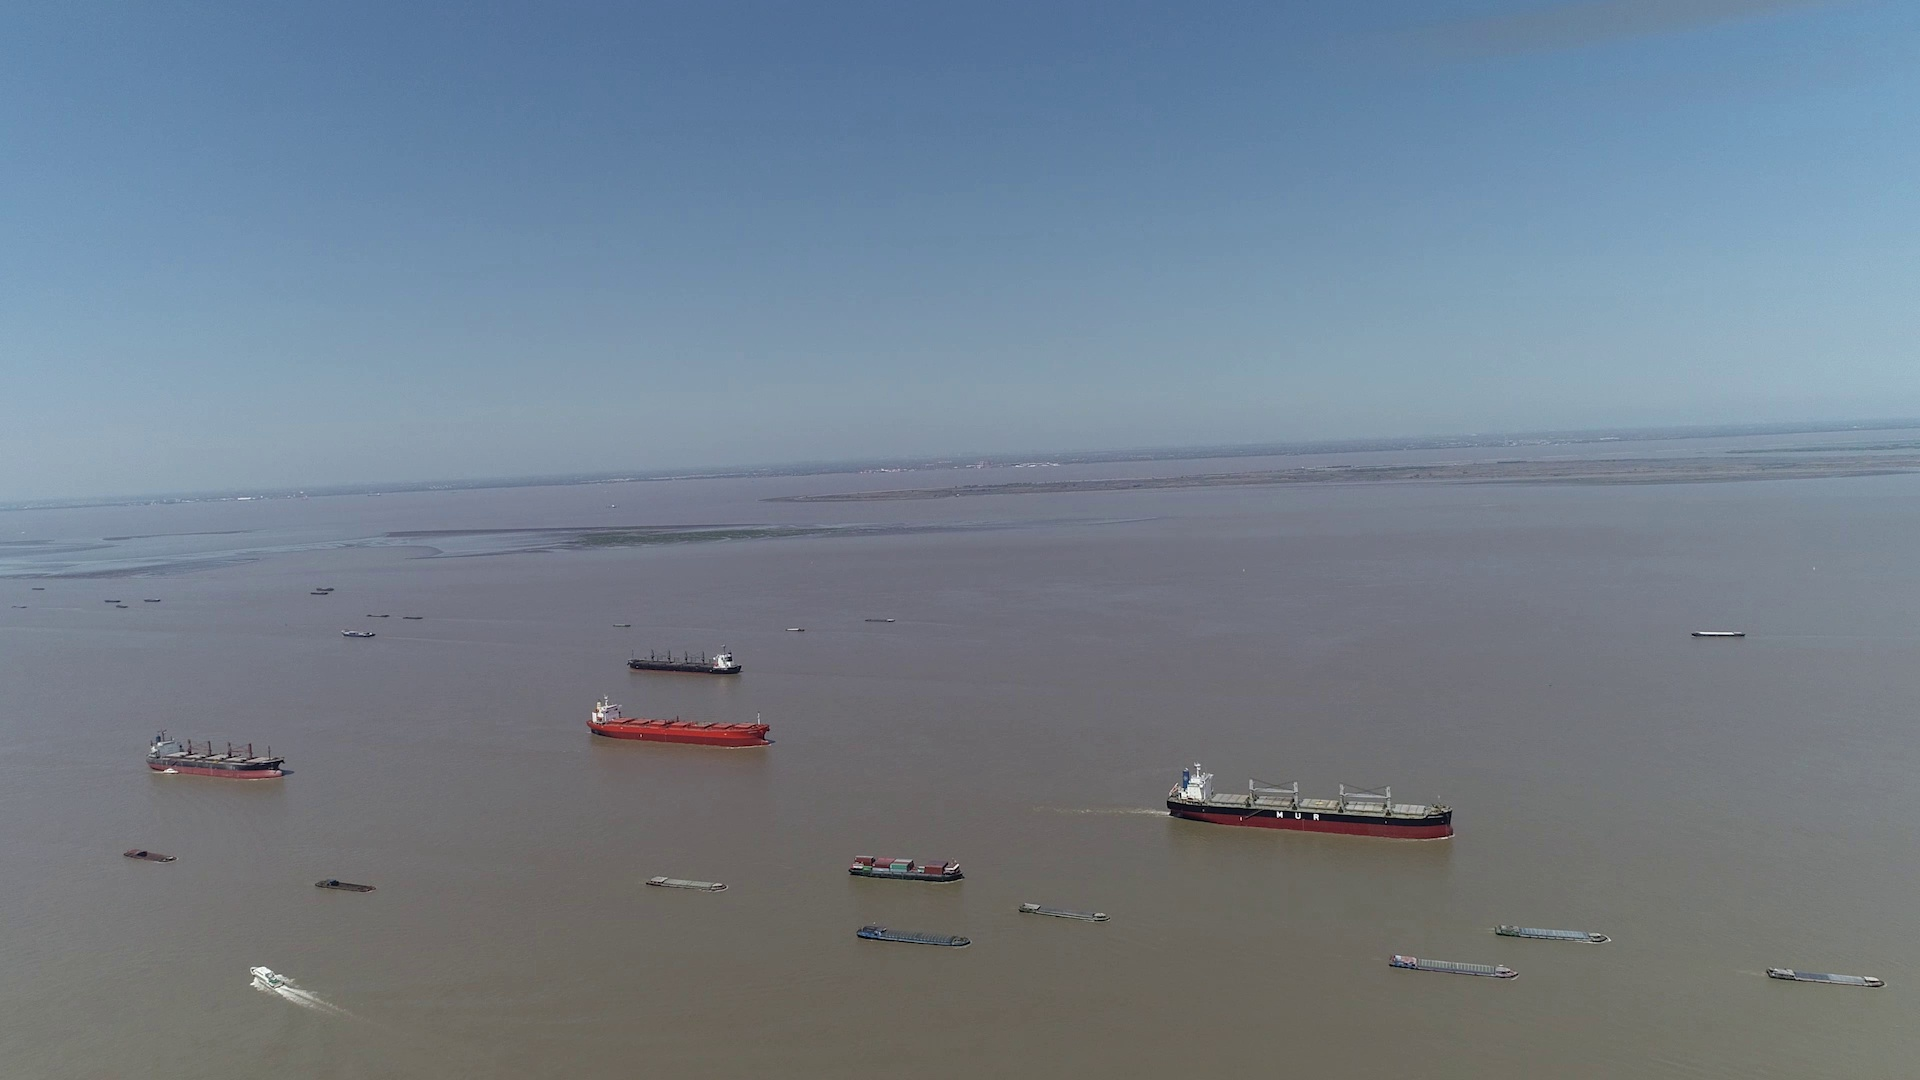ship: (1164, 765, 1455, 839), (587, 698, 771, 746), (150, 729, 286, 778), (625, 646, 742, 676), (847, 855, 964, 884), (1389, 952, 1519, 977), (856, 924, 969, 947), (1764, 967, 1884, 988), (1493, 923, 1610, 944), (1019, 901, 1108, 922), (644, 876, 728, 891), (315, 880, 376, 891), (123, 851, 175, 864), (251, 965, 281, 986), (1691, 629, 1745, 637), (343, 628, 376, 637)
